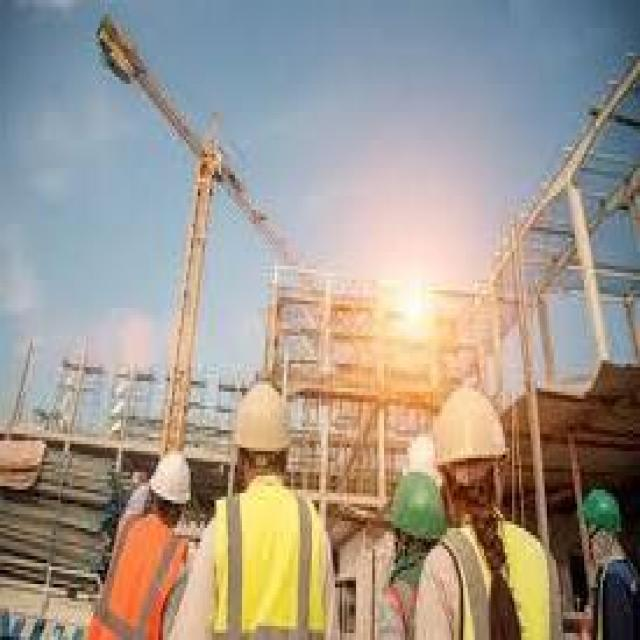Reflective-Jacket: (200, 475, 344, 640), (407, 510, 570, 640), (91, 503, 184, 640), (582, 552, 640, 640)
Safety-Helmet: (368, 416, 461, 560), (421, 374, 517, 486), (221, 371, 305, 472), (570, 479, 631, 549), (142, 441, 198, 514)
